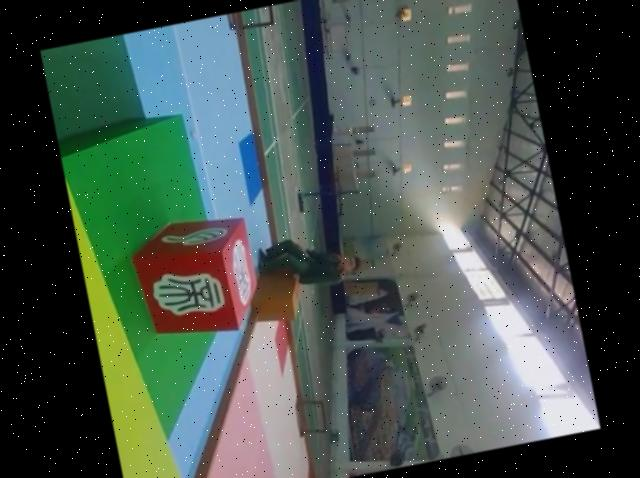R2 Fake: (124, 206, 267, 349)
